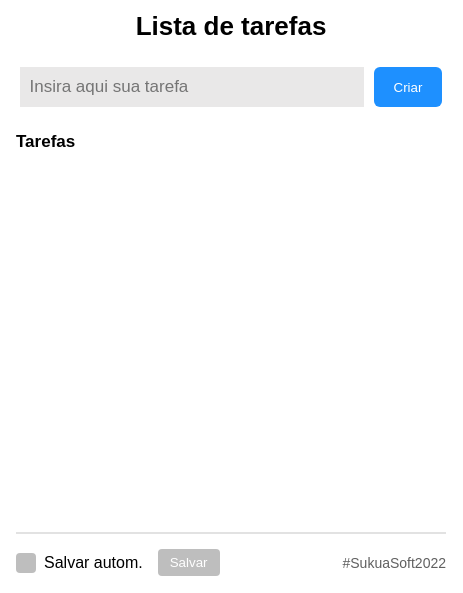
it: My first test › add task when input is provided
Type "Minha nova tarefa" into the field named "task". click: (192, 87)
box: x1=20 y1=67 x2=364 y2=107
Then press Enter
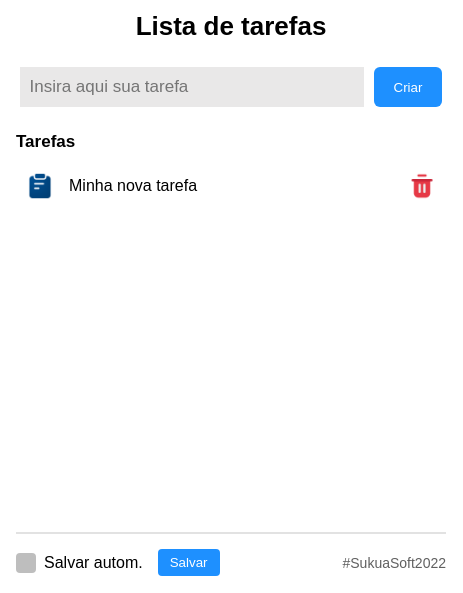
expect the text "Minha nova tarefa" is shown: met, box x1=69 y1=177 x2=197 y2=195
